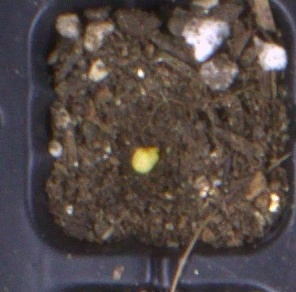chilli seed: (131, 146, 160, 175)
